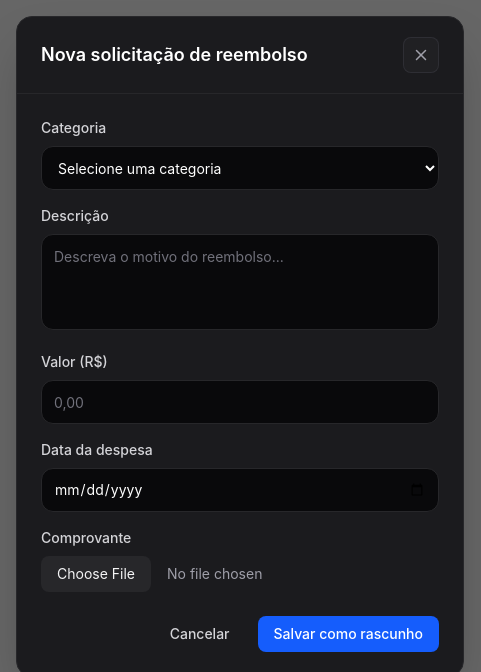
CreateReimbursement - campos obrigatórios › deve exibir erro ao tentar enviar sem selecionar categoria
This screenshot has width=481, height=672.
In the text box labelled "Descrição": (240, 282) [41,234,439,330], type "Almoço com cliente"
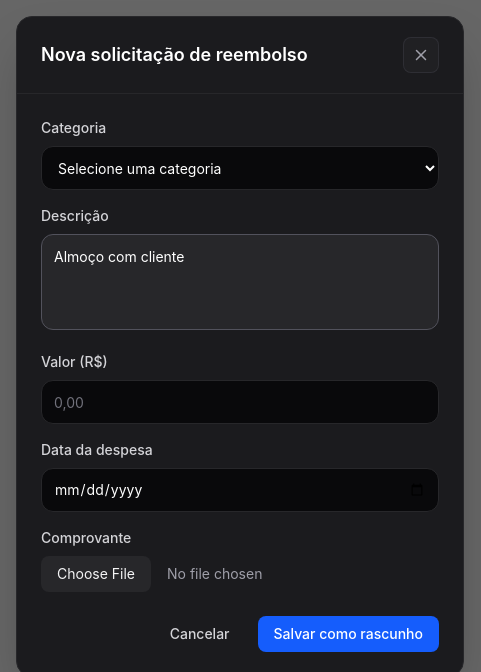
In the number field labelled "Valor (R$)": (240, 402) [41,380,439,424], type "50"
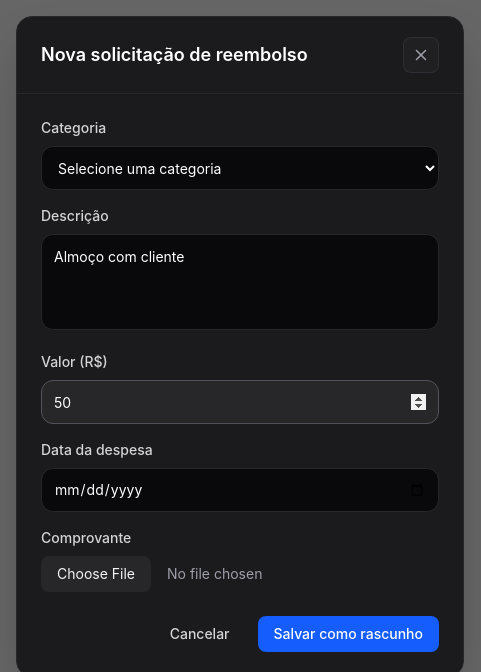
In the date field labelled "Data da despesa": (240, 490) [41,468,439,512], type "2026-01-15"
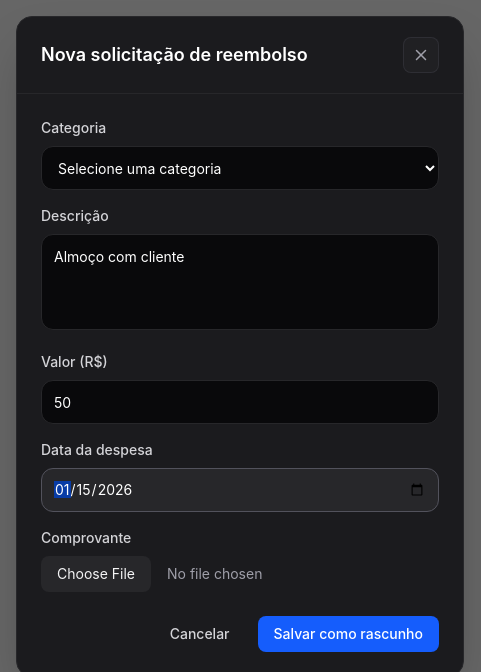
# disparamos o submit clicando no botão "Salvar como rascunho"
Click the button "Salvar como rascunho": (348, 634) [258,616,439,652]
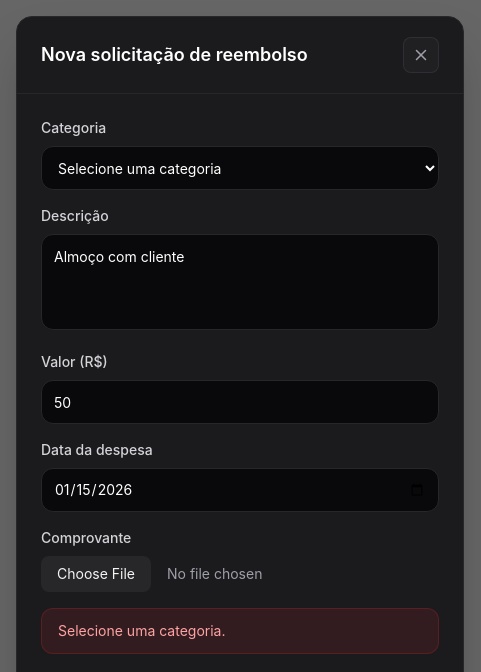
Expected: the text "Selecione uma categoria." is shown, [58,622,226,639]
